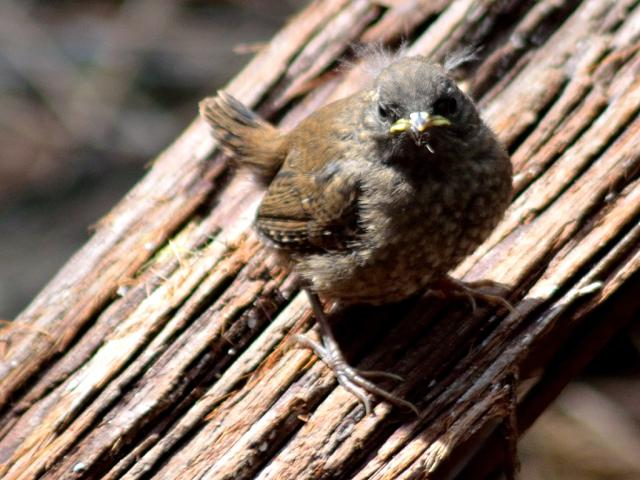Bird: (199, 36, 513, 417)
